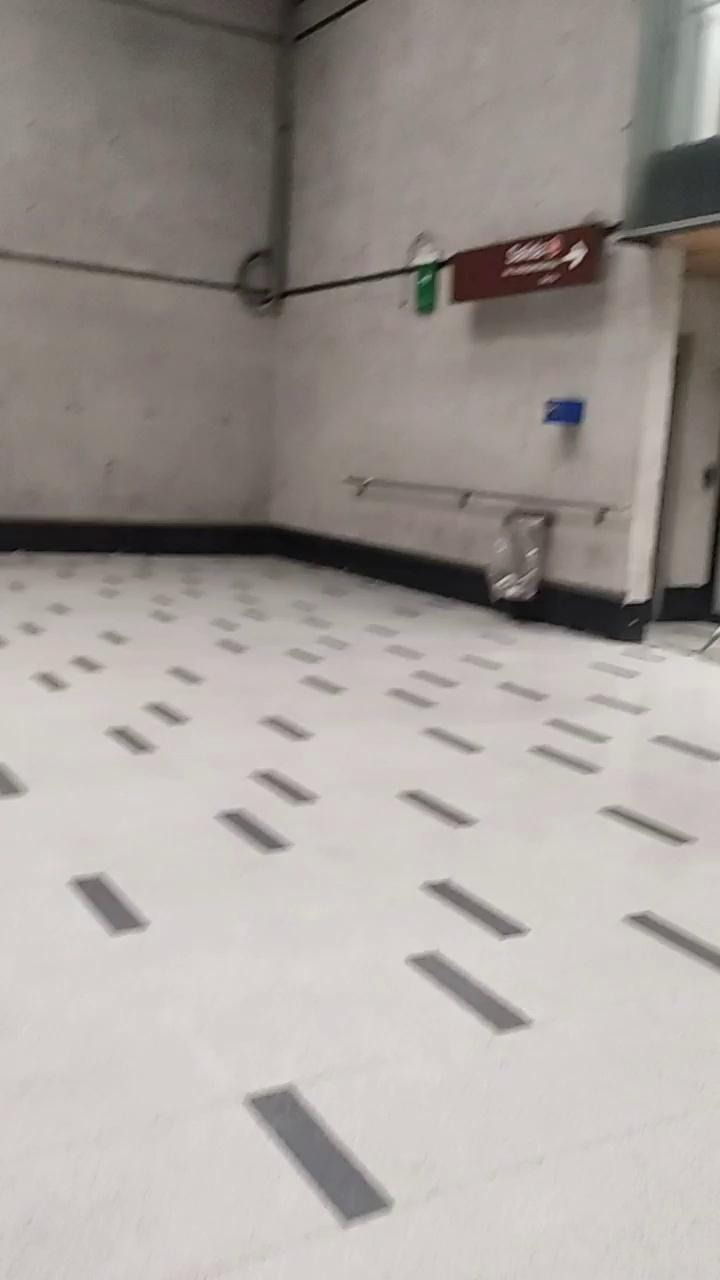right arrow: (564, 235, 595, 278)
